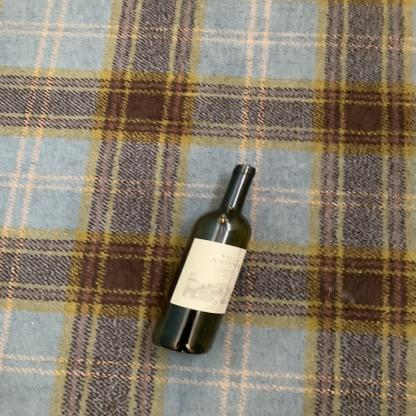trash: (151, 164, 260, 358)
